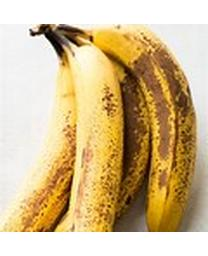banana: (8, 24, 197, 232)
